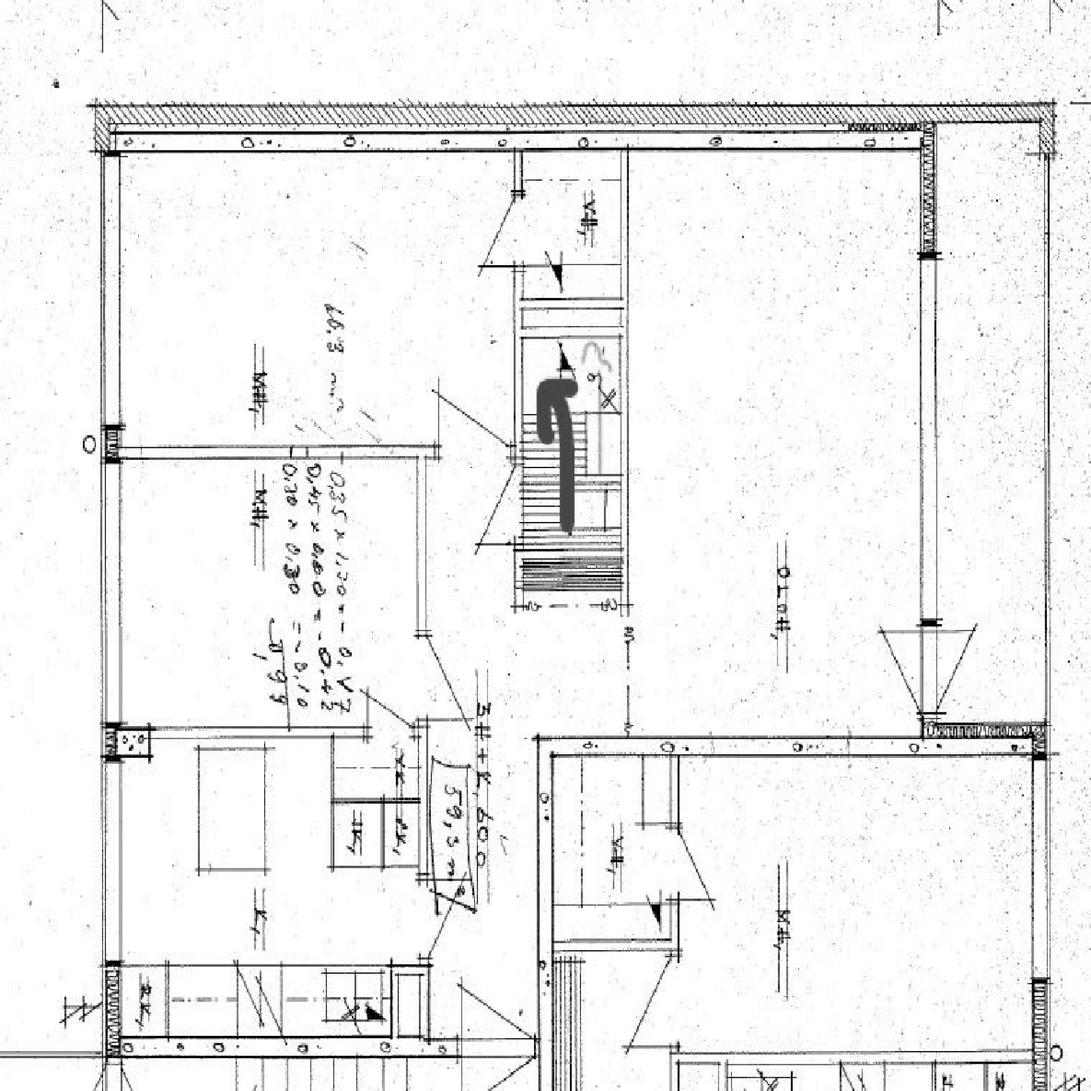wall: (102, 105, 937, 152), (102, 104, 121, 1057), (921, 105, 937, 756), (102, 1037, 553, 1058), (538, 737, 938, 756), (538, 737, 553, 1057), (515, 300, 628, 336), (937, 723, 1049, 756), (102, 445, 428, 456), (515, 105, 523, 456), (420, 729, 428, 1057), (420, 446, 428, 729), (149, 729, 420, 737), (621, 299, 628, 604), (938, 105, 1054, 123), (621, 105, 628, 336), (102, 729, 149, 757), (515, 446, 523, 606), (420, 445, 523, 456), (515, 549, 628, 558), (1040, 105, 1054, 153)
